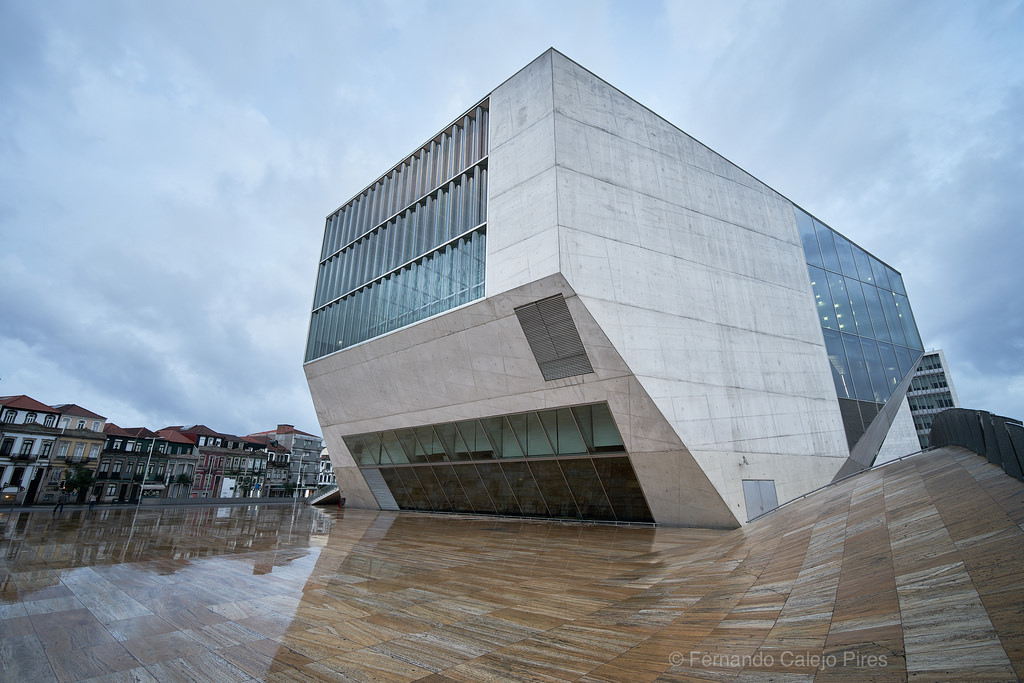musica: (299, 46, 926, 527)
